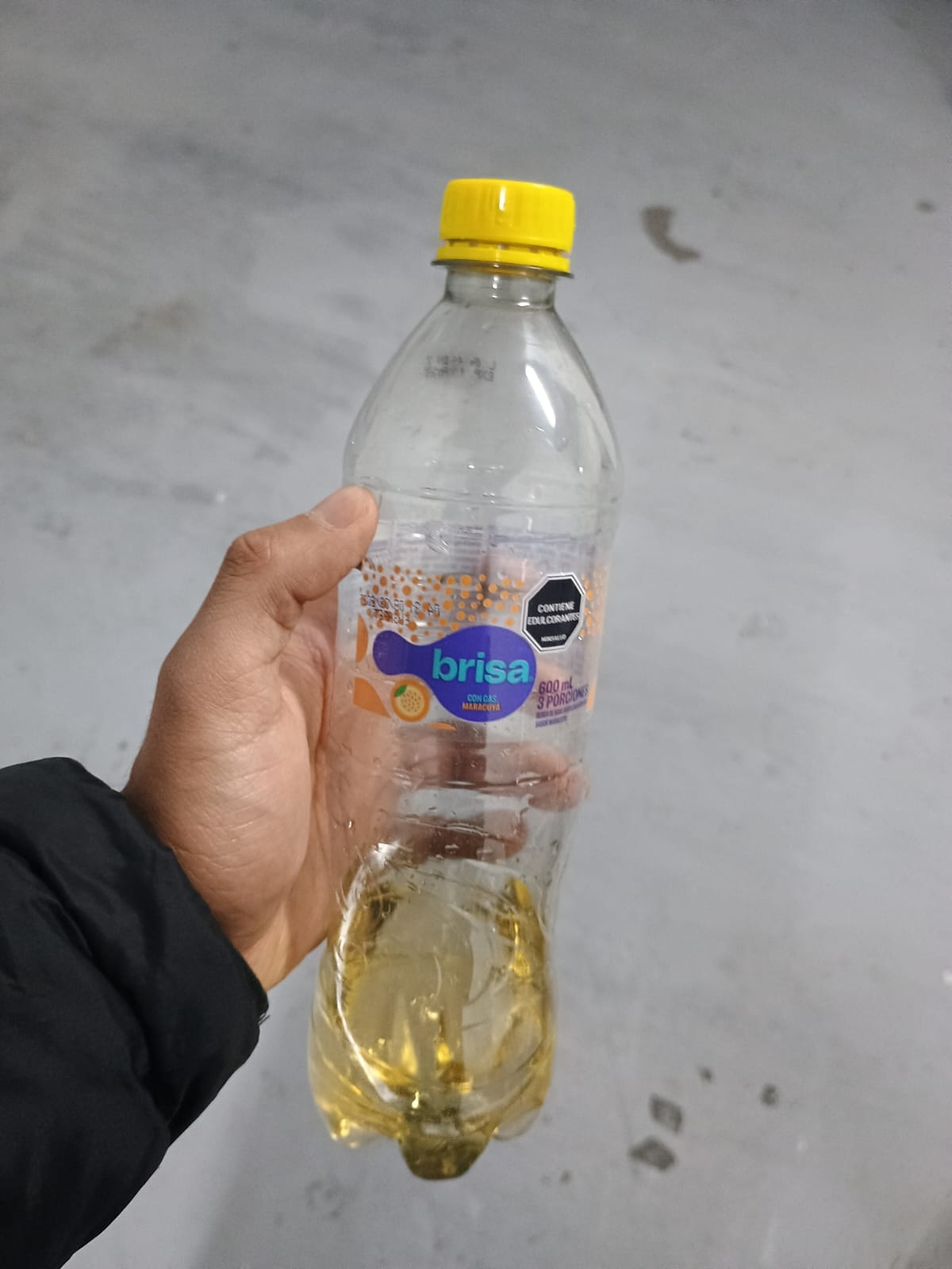Plastico: (308, 175, 625, 1186)
